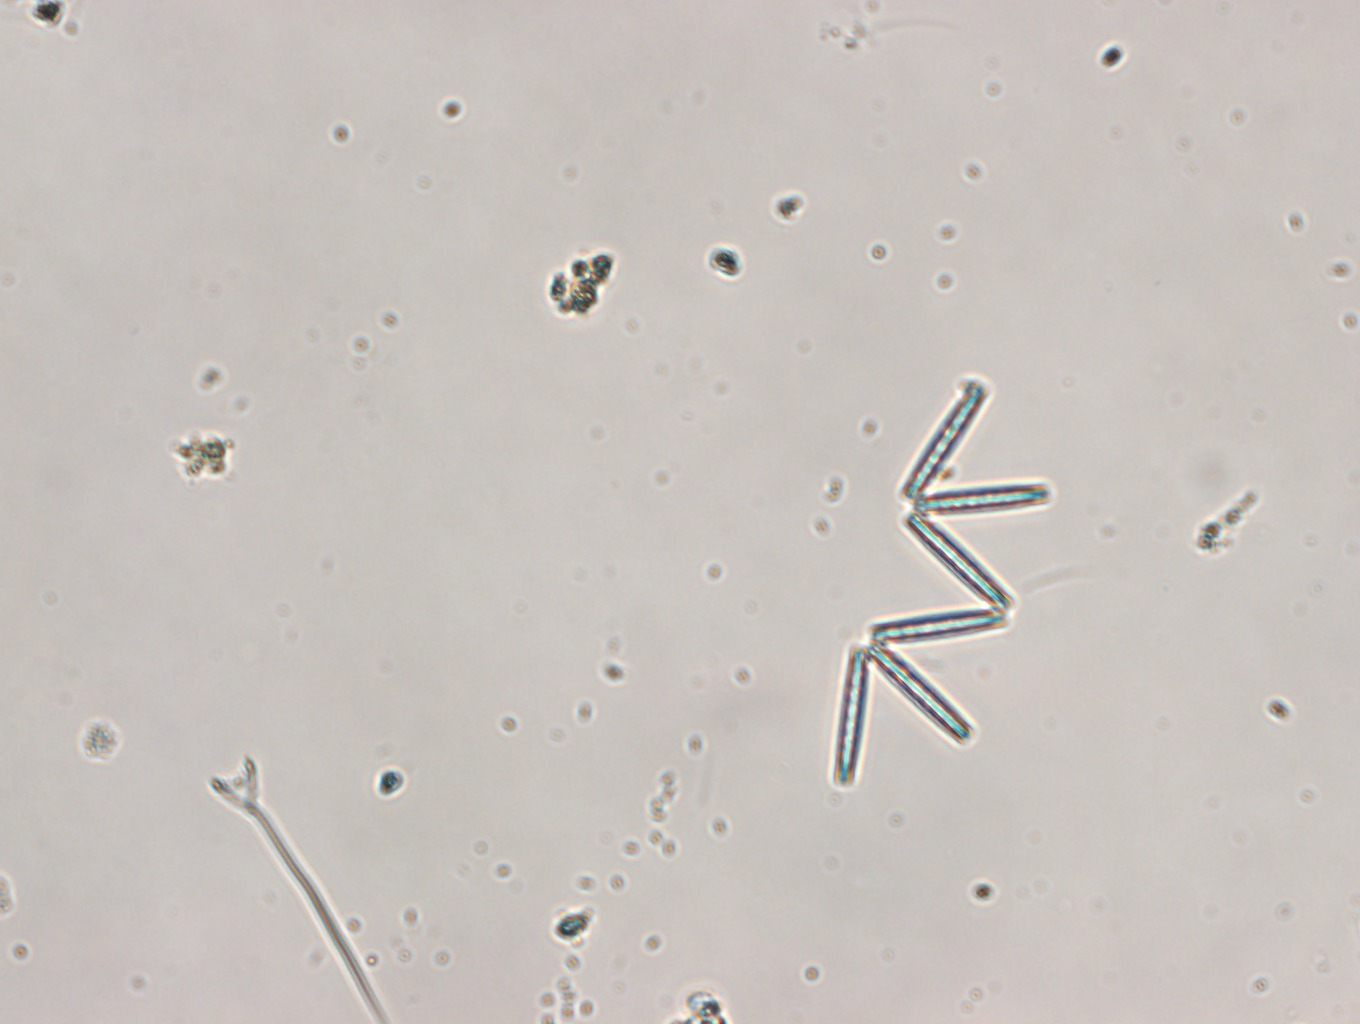thalassionema nitzschioides: (828, 380, 1054, 787)
